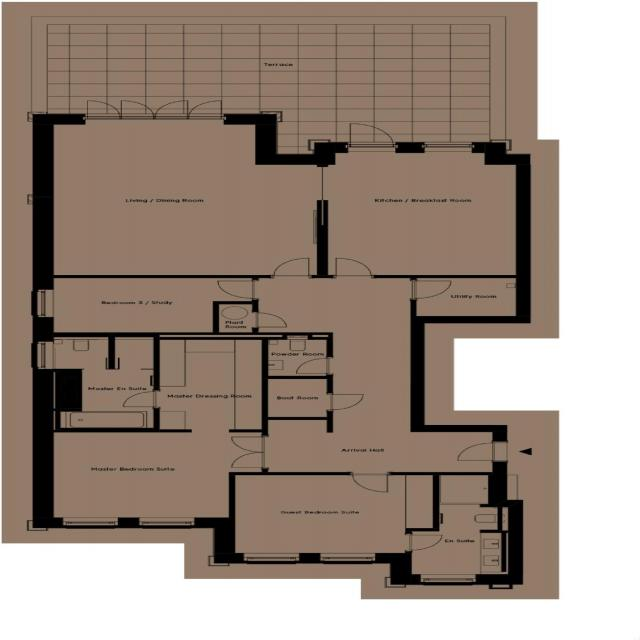DOOR: (455, 440, 508, 463), (350, 471, 392, 493), (217, 279, 259, 301), (269, 257, 313, 278), (334, 257, 376, 278), (404, 533, 444, 553), (121, 389, 160, 409)
DOUBLE DOOR: (227, 435, 269, 470)
ROOM: (31, 99, 329, 279), (314, 123, 531, 279), (213, 472, 444, 563), (32, 275, 260, 335)
WINDOW: (29, 341, 55, 370), (60, 517, 120, 529), (318, 552, 377, 564), (137, 517, 196, 529), (419, 574, 477, 586), (420, 141, 475, 153), (242, 553, 300, 564), (35, 289, 55, 318)
